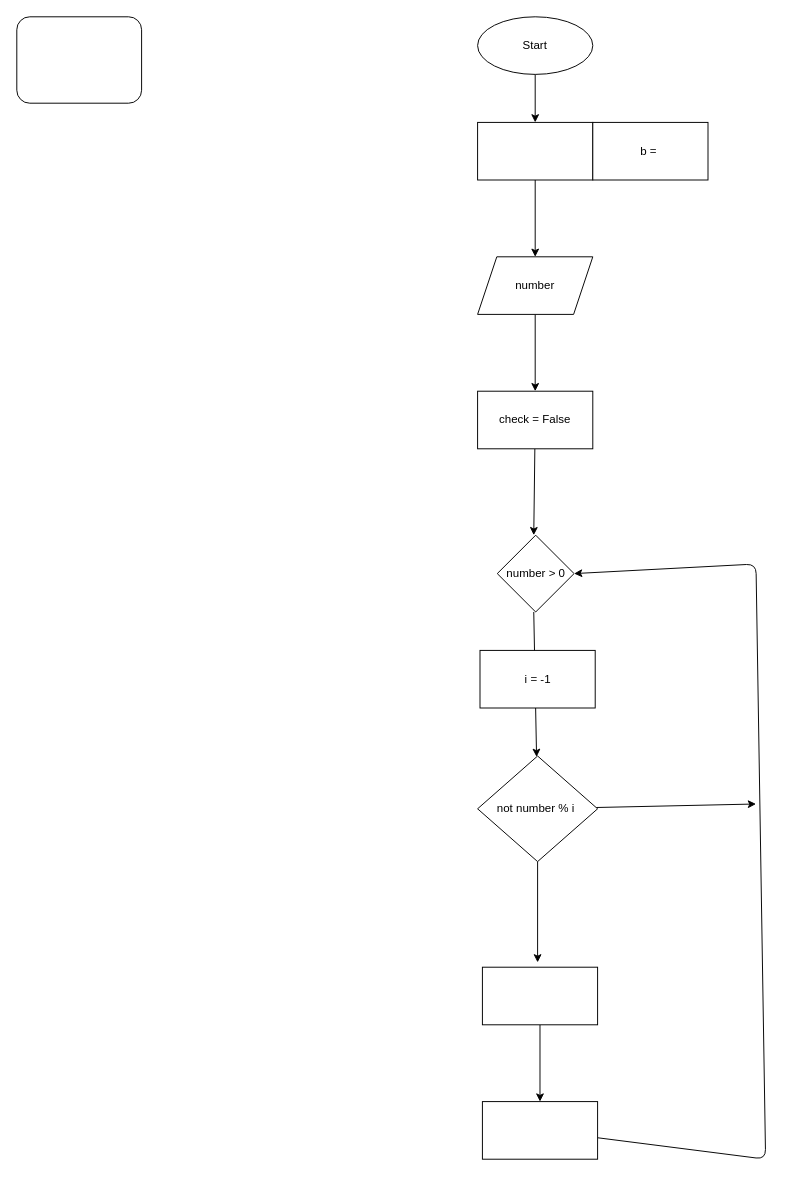
Image size: 790x1184. Some labels were removed from this diagram. Here are the shapes that lost their labels. From the top down, the centre of each, then its label:
At point (79, 59): "Составить список простых множителей натурального числа N".
At point (535, 150): "a = 2, 3, 5, 7, 11, 13, 17, 23, 29, 31".
At point (539, 995): "number /= i".
At point (539, 1130): "b = i".
